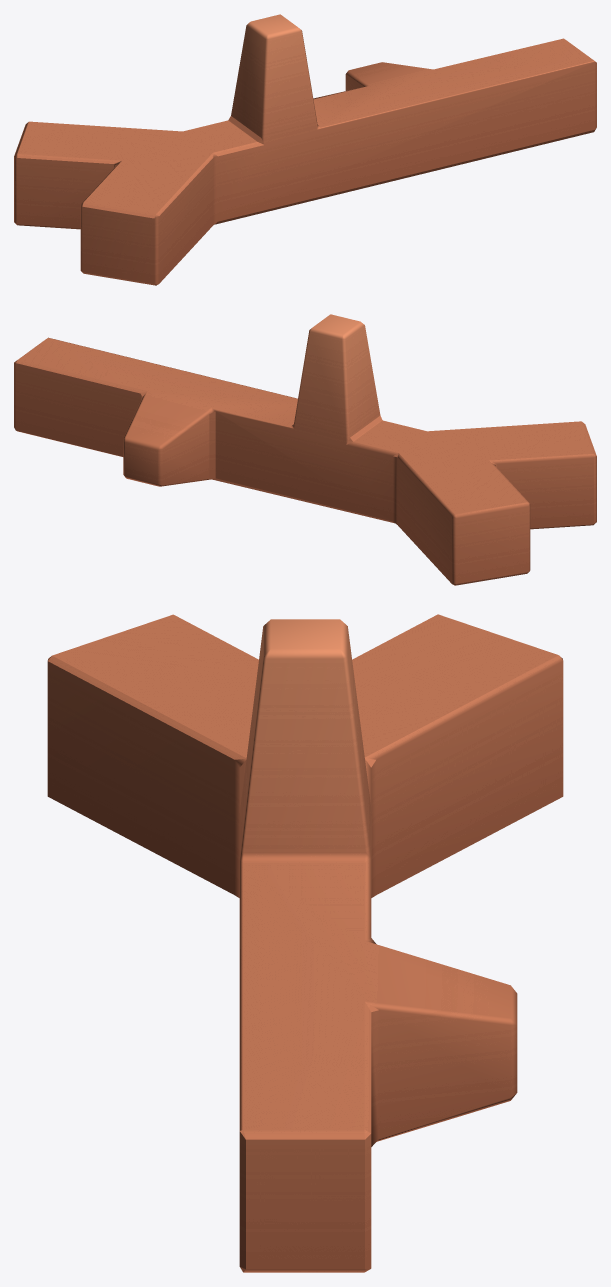
The model's file is kenney-survival__resource-wood.glb.
The picture shows the model from 3 angles, top to bottom: view 1: azimuth 30°, elevation 25°; view 2: azimuth 150°, elevation 25°; view 3: azimuth 270°, elevation 25°; orthographic projection. The views are drawn at different scales.
Visible parts, largest first — view 1: resource-wood; view 2: resource-wood; view 3: resource-wood.
Part boxes in pixels (x1=…): resource-wood: x1=14, y1=14, x2=596, y2=285; resource-wood: x1=14, y1=314, x2=596, y2=585; resource-wood: x1=47, y1=614, x2=563, y2=1272.
Bounding box in the file's own units: 0.2043 × 0.0627 × 0.0854.
Materials: 1 (1 with a texture image).
